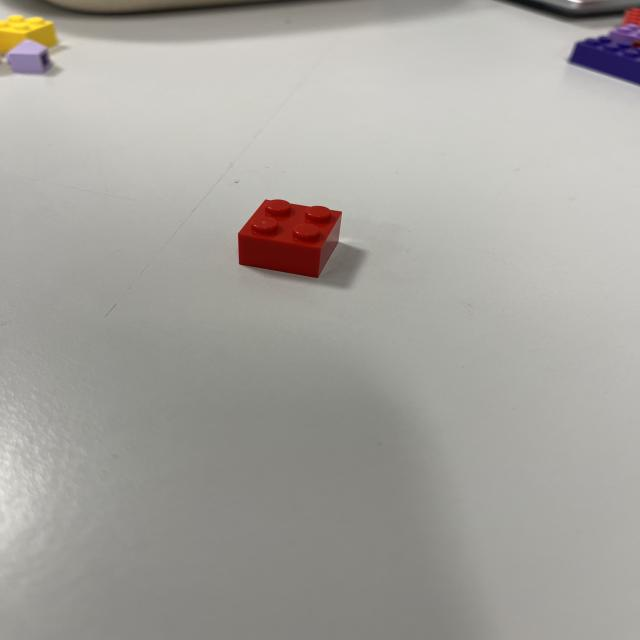C2x2x1: (233, 194, 351, 278)
